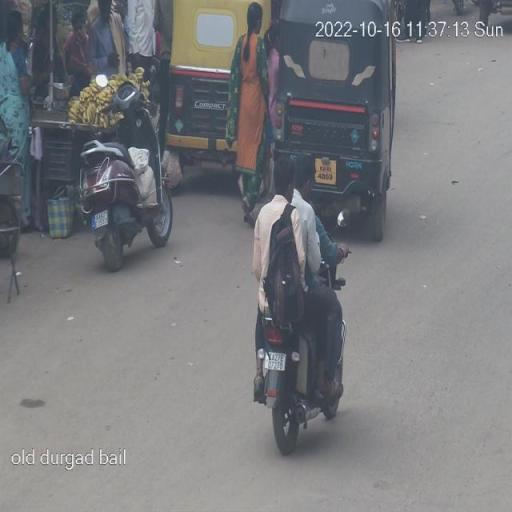tripple riding: (249, 146, 351, 301)
